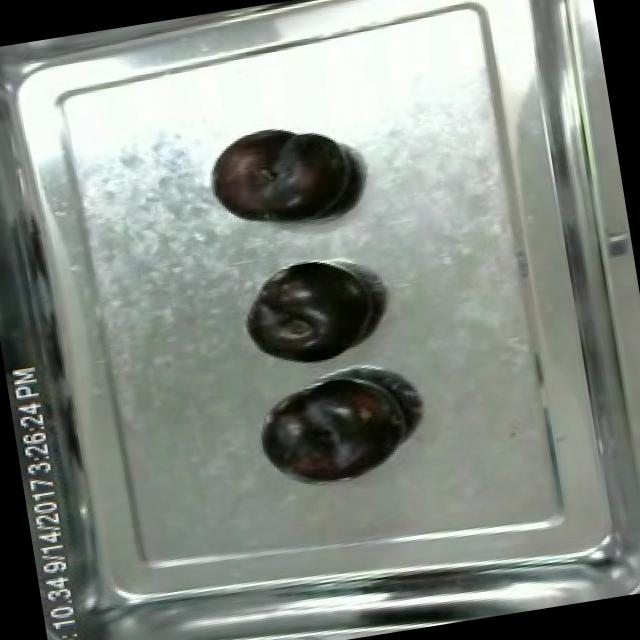Fruit: (253, 364, 417, 496), (198, 114, 366, 240), (232, 252, 386, 378)
